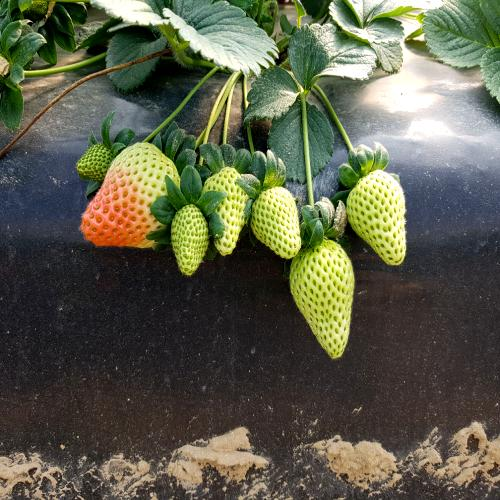partially-ripe: (77, 135, 178, 260)
unripe: (293, 222, 357, 368), (351, 162, 415, 266), (247, 183, 310, 260)
